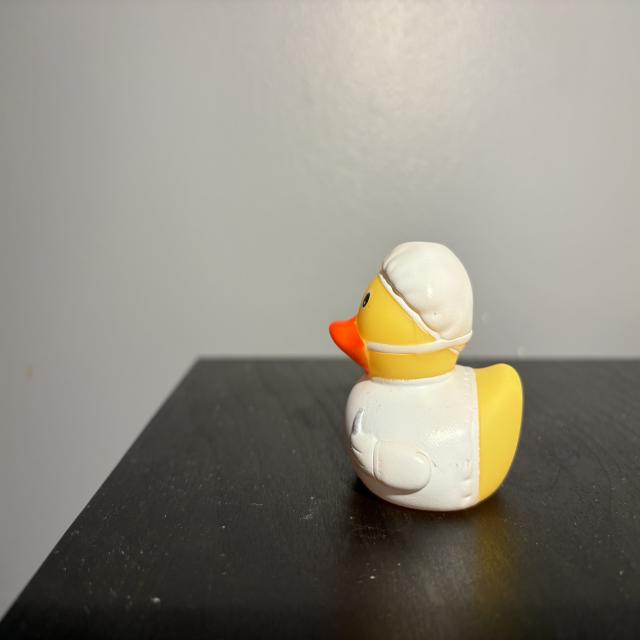duck_specialty: (331, 242, 525, 511)
